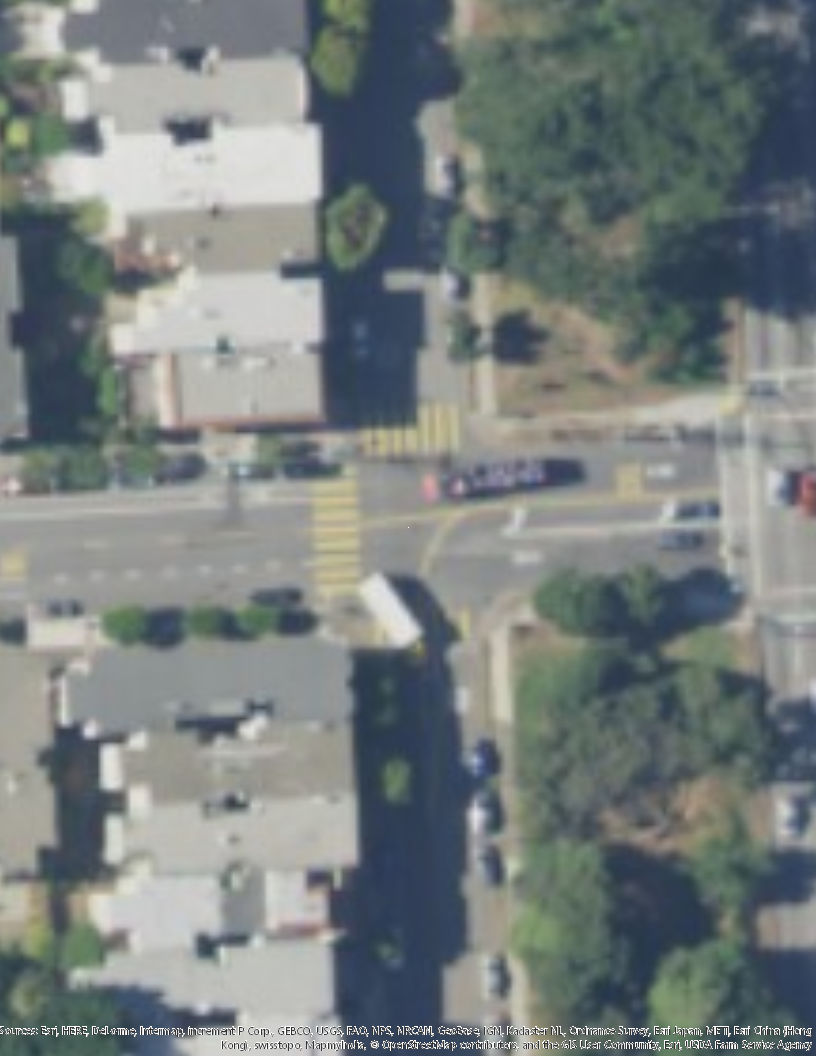zebracross: (310, 461, 362, 587), (352, 406, 463, 459)
